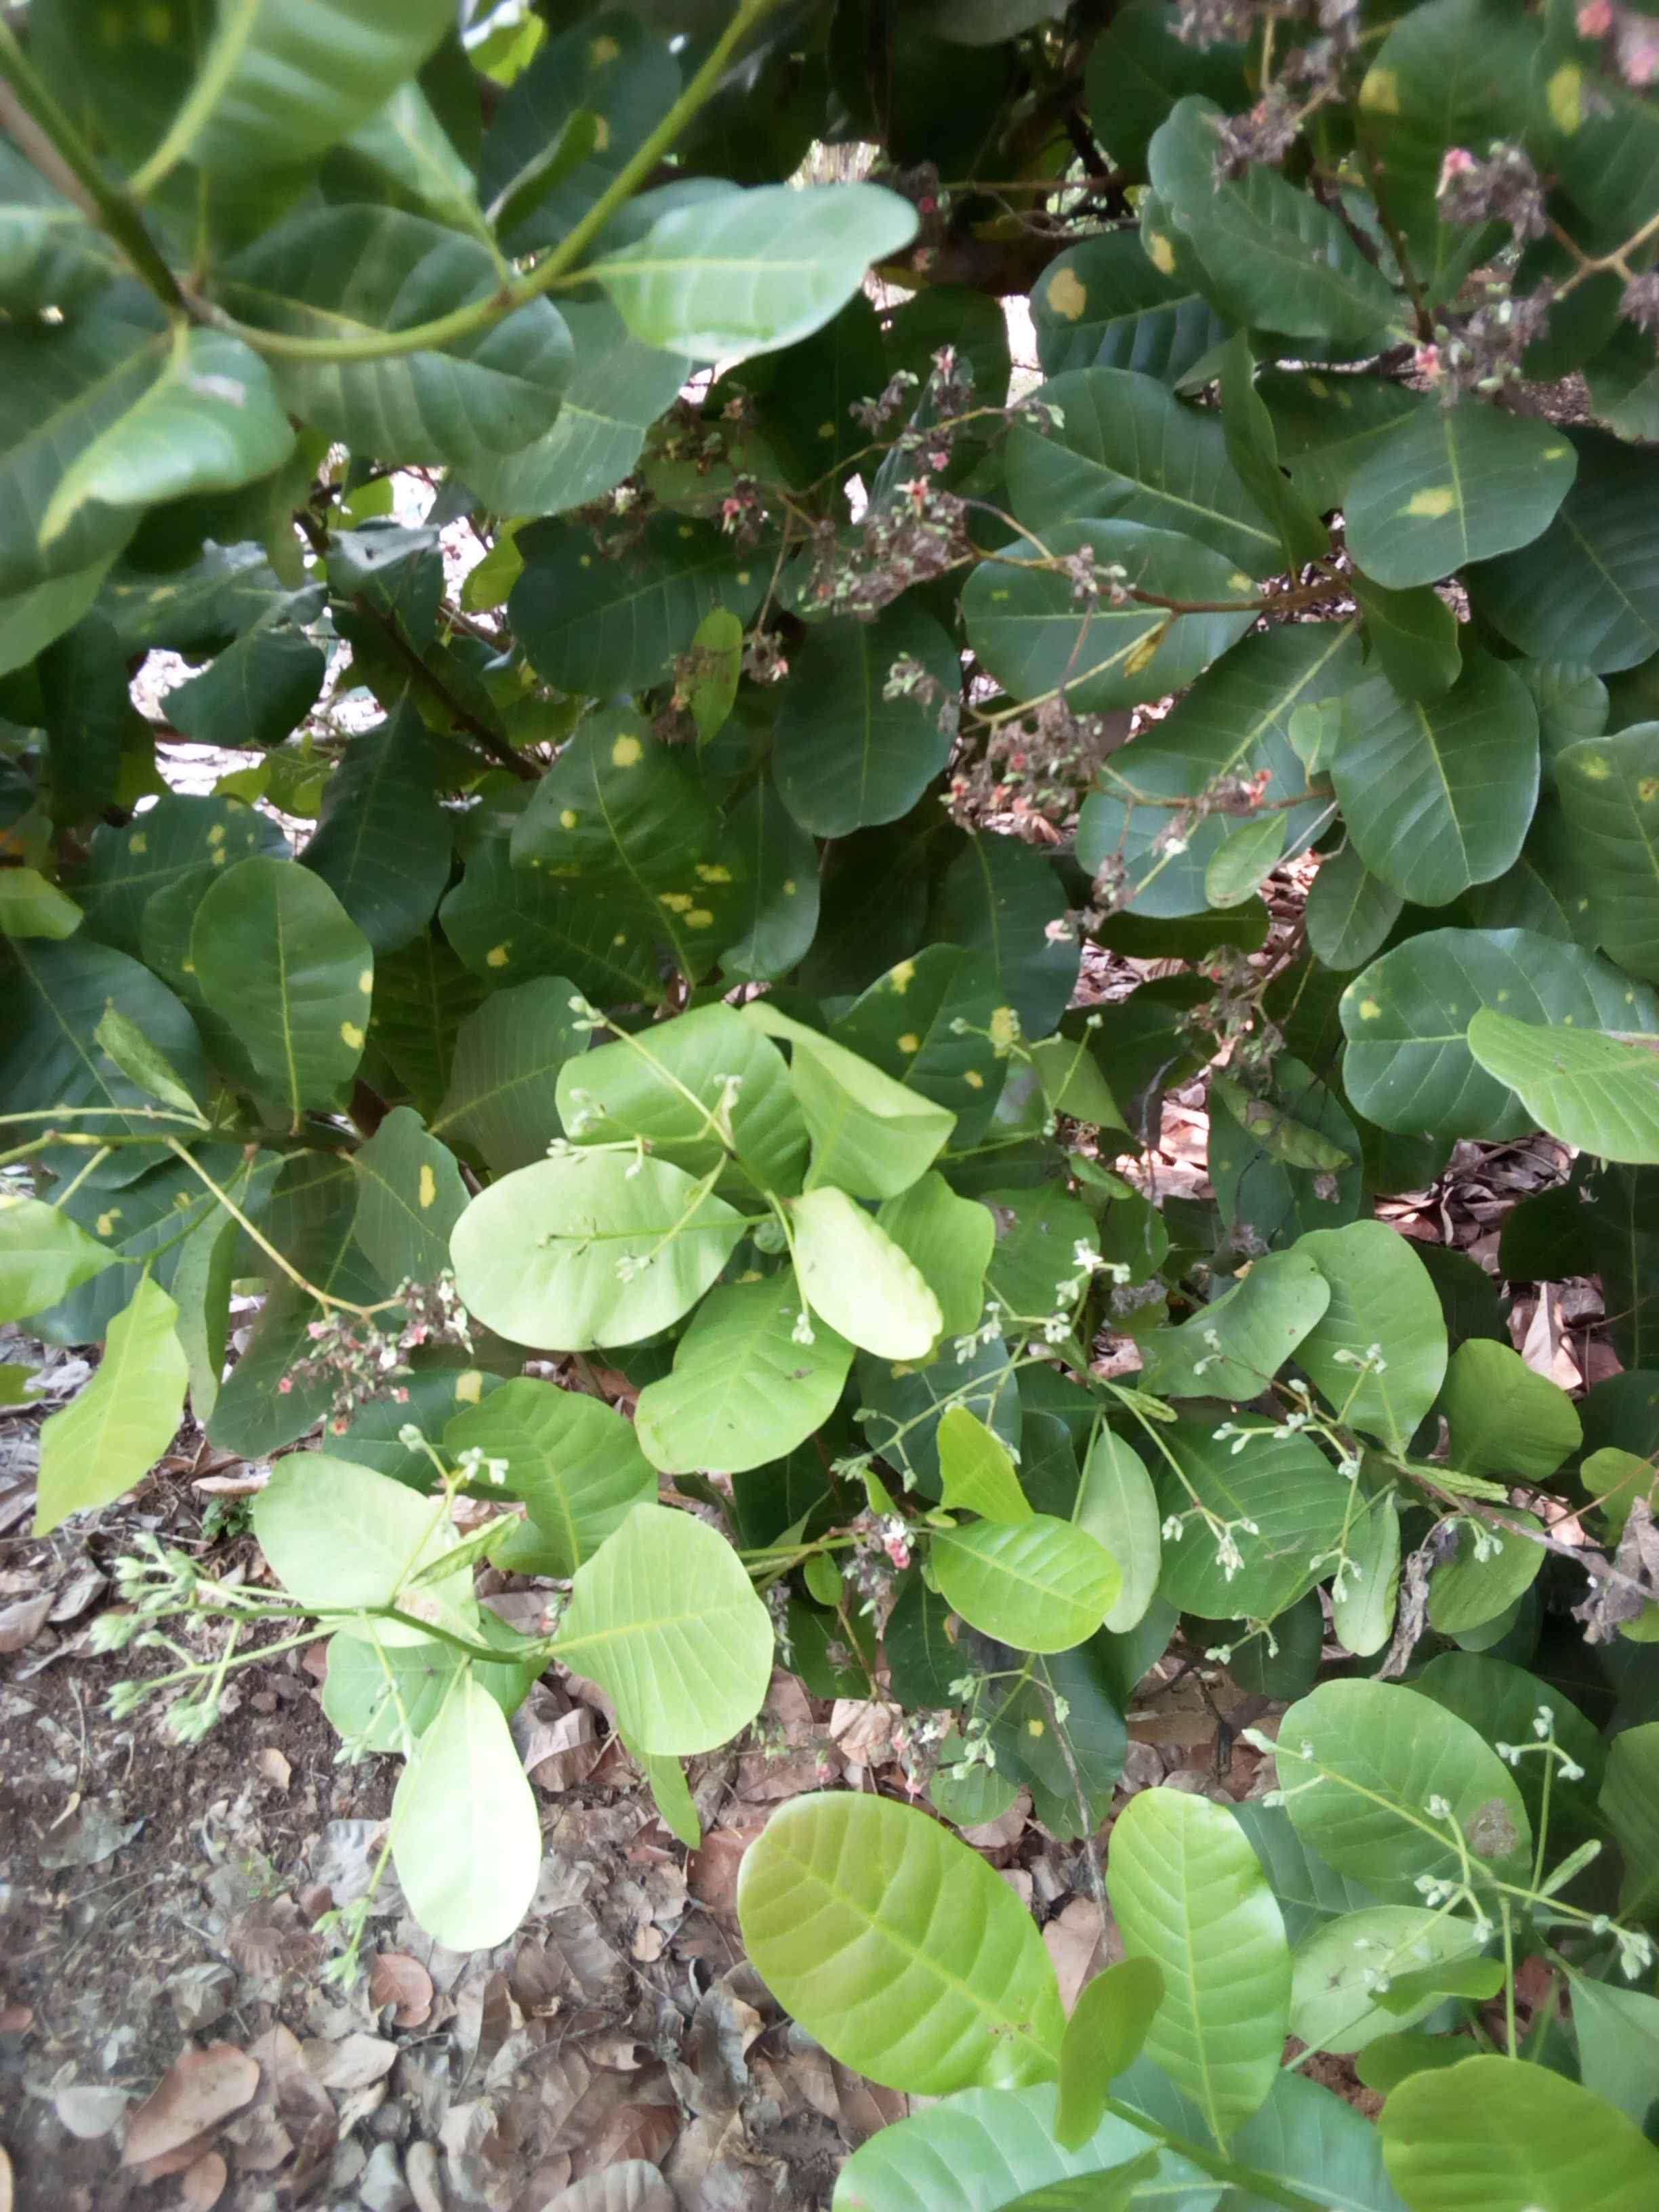Carence minérale: (1354, 2, 1659, 327), (453, 730, 769, 984), (1335, 930, 1659, 1163), (169, 834, 389, 1139), (802, 927, 1070, 1163), (1331, 392, 1575, 604), (1016, 218, 1300, 388), (1537, 716, 1659, 923)
